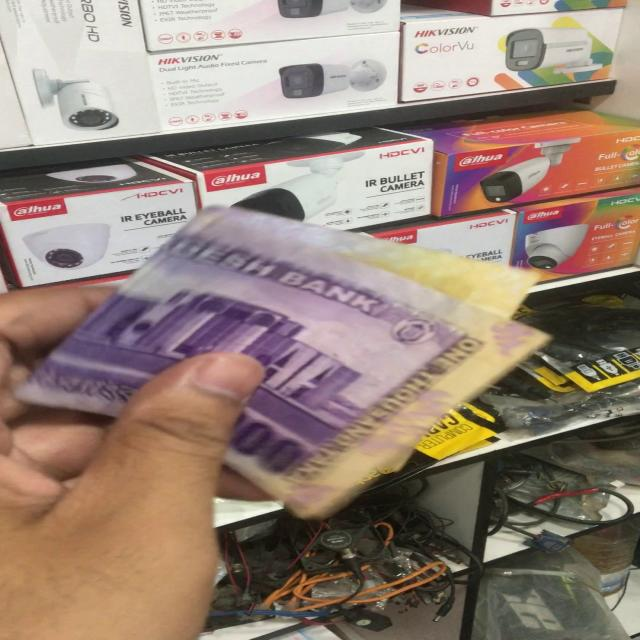Taka: (46, 205, 535, 503)
